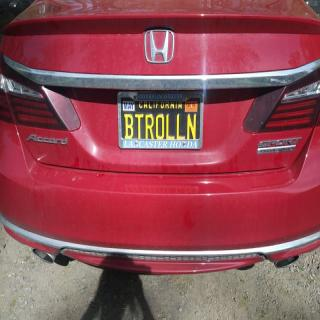license: (118, 92, 206, 151)
